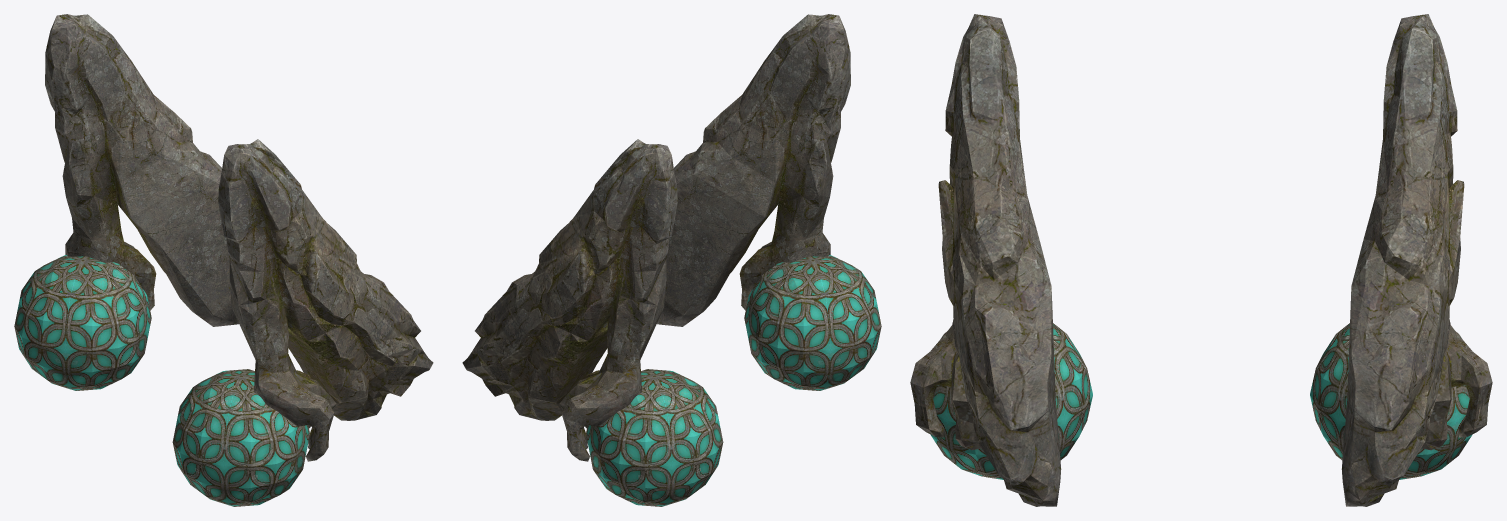
The model's file is bg_anh_gvalley_dstair01_04_sm_old.FBX.
The picture shows the model from 3 angles, left to right: view 1: azimuth 30°, elevation 25°; view 2: azimuth 150°, elevation 25°; view 3: azimuth 270°, elevation 25°; orthographic projection. The views are drawn at different scales.
Parts seen in each view (by area): view 1: bg_anh_gvalley_dstair01_04_sm_old; view 2: bg_anh_gvalley_dstair01_04_sm_old; view 3: bg_anh_gvalley_dstair01_04_sm_old.
Part boxes in pixels (<box>): bg_anh_gvalley_dstair01_04_sm_old: <box>14,14,433,506</box>; bg_anh_gvalley_dstair01_04_sm_old: <box>462,14,881,506</box>; bg_anh_gvalley_dstair01_04_sm_old: <box>910,14,1492,506</box>.
Size of the model in its own units: 481 by 654 by 766.
